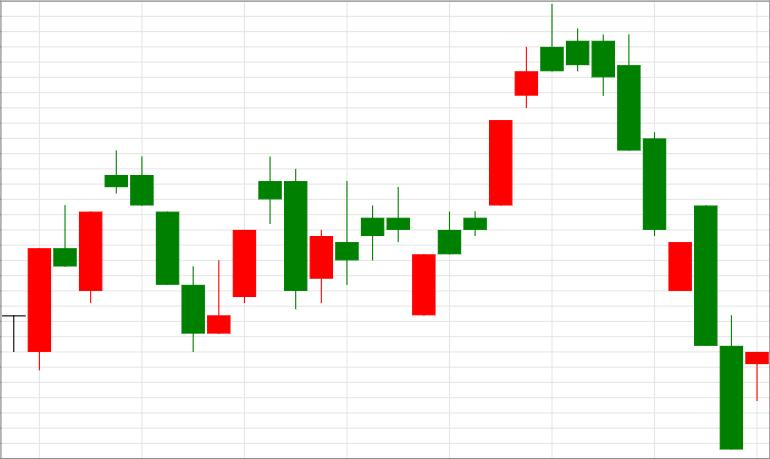shooting_star_fall: (412, 4, 564, 317)
